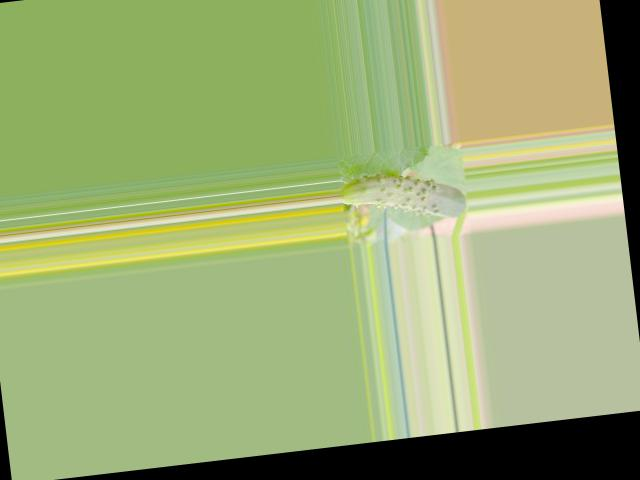cucumber: (340, 163, 468, 229)
